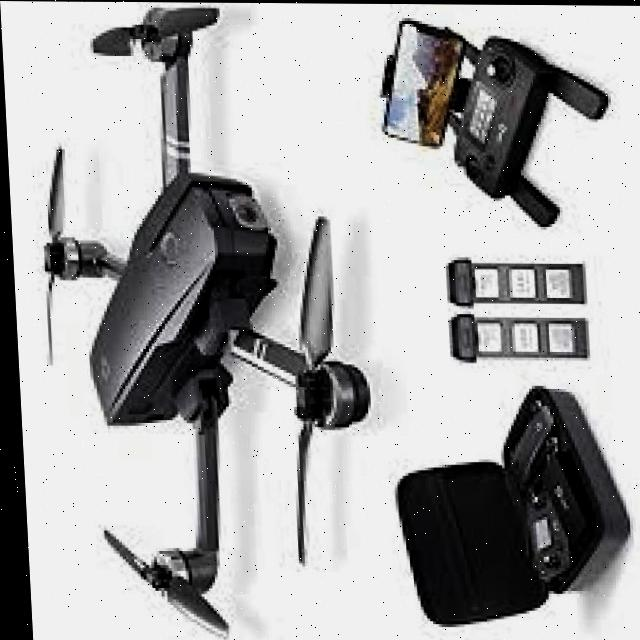drone: (0, 0, 384, 640)
